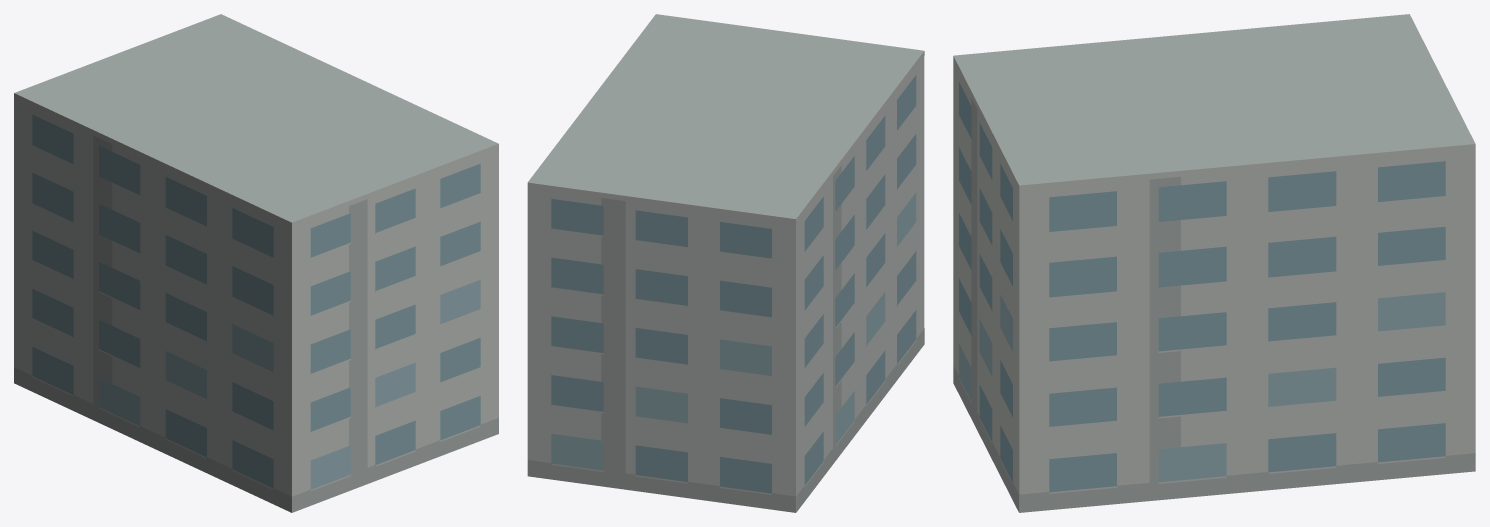
File: survey-upis-32697656.glb
The picture shows the model from 3 angles, left to right: view 1: azimuth 30°, elevation 25°; view 2: azimuth 150°, elevation 25°; view 3: azimuth 270°, elevation 25°; orthographic projection. The views are drawn at different scales.
Parts seen in each view (by area): view 1: survey-upis-32697656.tmp; view 2: survey-upis-32697656.tmp; view 3: survey-upis-32697656.tmp.
Boxes of the visible parts, x1,y1,x2,y2 form: survey-upis-32697656.tmp: [14, 14, 498, 512]; survey-upis-32697656.tmp: [527, 14, 924, 512]; survey-upis-32697656.tmp: [953, 14, 1475, 512].
Bounding box in the file's own units: 15.24 × 13.55 × 19.61.
